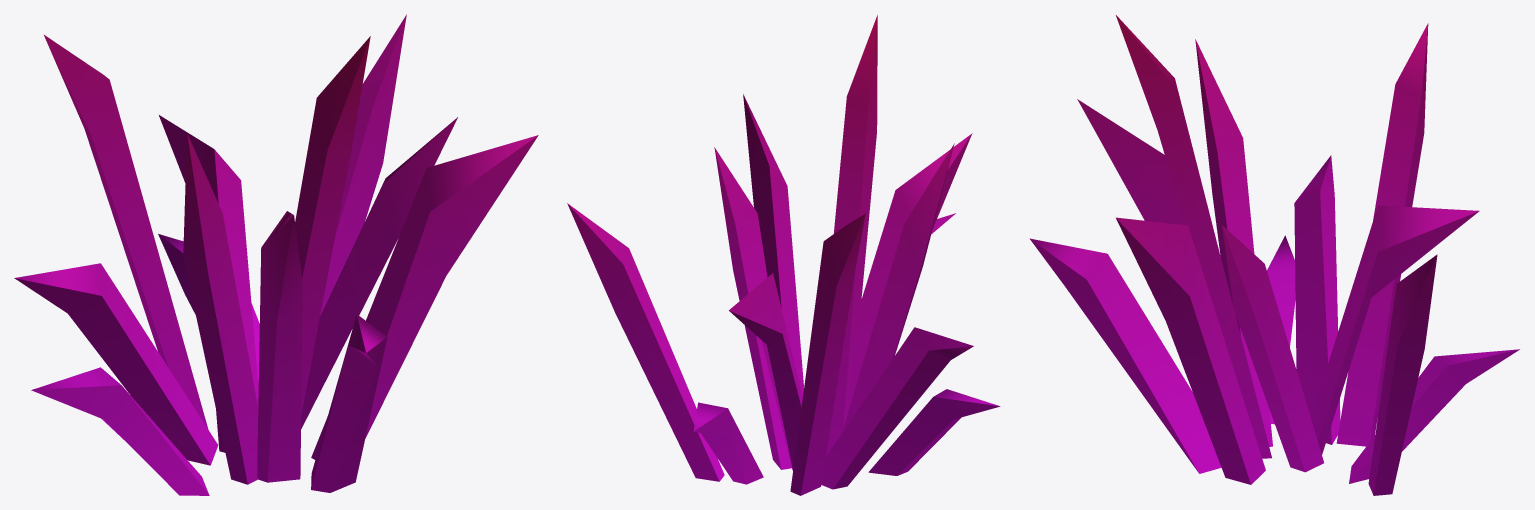
File: SM_Plant_Reeds_02.gltf
The picture shows the model from 3 angles, left to right: view 1: azimuth 30°, elevation 25°; view 2: azimuth 150°, elevation 25°; view 3: azimuth 270°, elevation 25°; orthographic projection. The views are drawn at different scales.
Parts seen in each view (by area): view 1: SM_Plant_Reeds_02; view 2: SM_Plant_Reeds_02; view 3: SM_Plant_Reeds_02.
Boxes of the visible parts, x1=… form: SM_Plant_Reeds_02: x1=14, y1=14, x2=538, y2=495; SM_Plant_Reeds_02: x1=567, y1=15, x2=1000, y2=495; SM_Plant_Reeds_02: x1=1029, y1=15, x2=1519, y2=495.
Bounding box in the file's own units: 0.9946 × 1.01 × 1.01.
